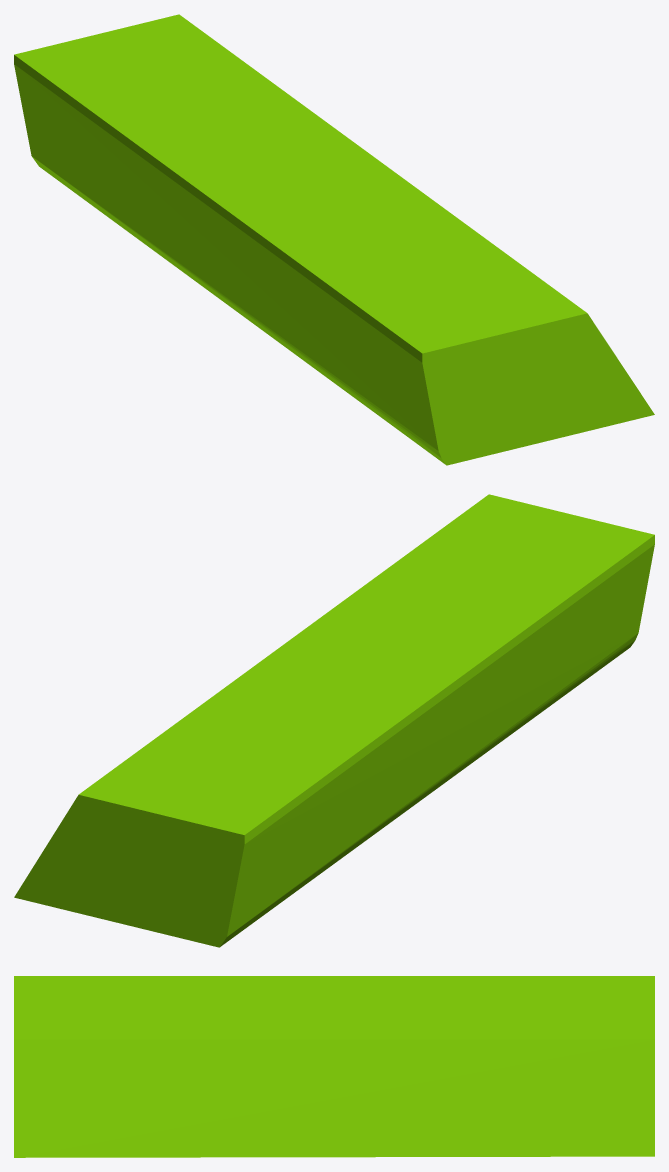
File: simple_example_hole_part_85.obj
3 views of the same model, one above another, from view 1: azimuth 30°, elevation 25°; view 2: azimuth 150°, elevation 25°; view 3: azimuth 270°, elevation 25° (orthographic). The views are drawn at different scales.
Bounding box in the file's own units: 0.5424 × 0.2629 × 1.65.
